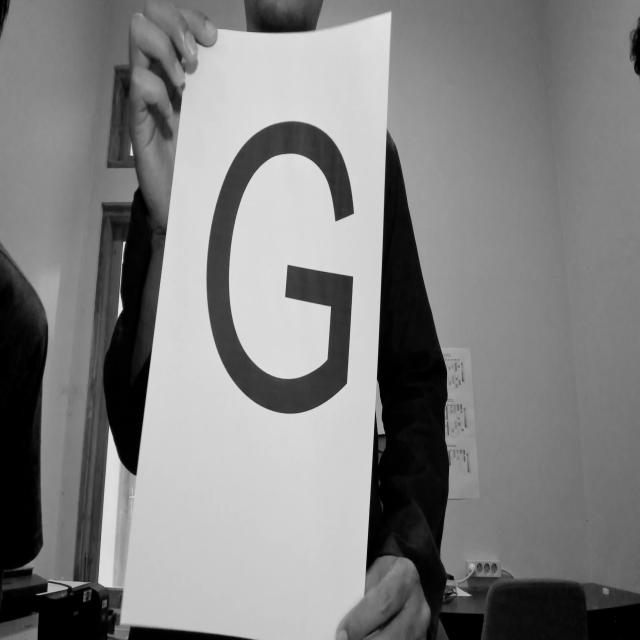g: (199, 108, 359, 443)
